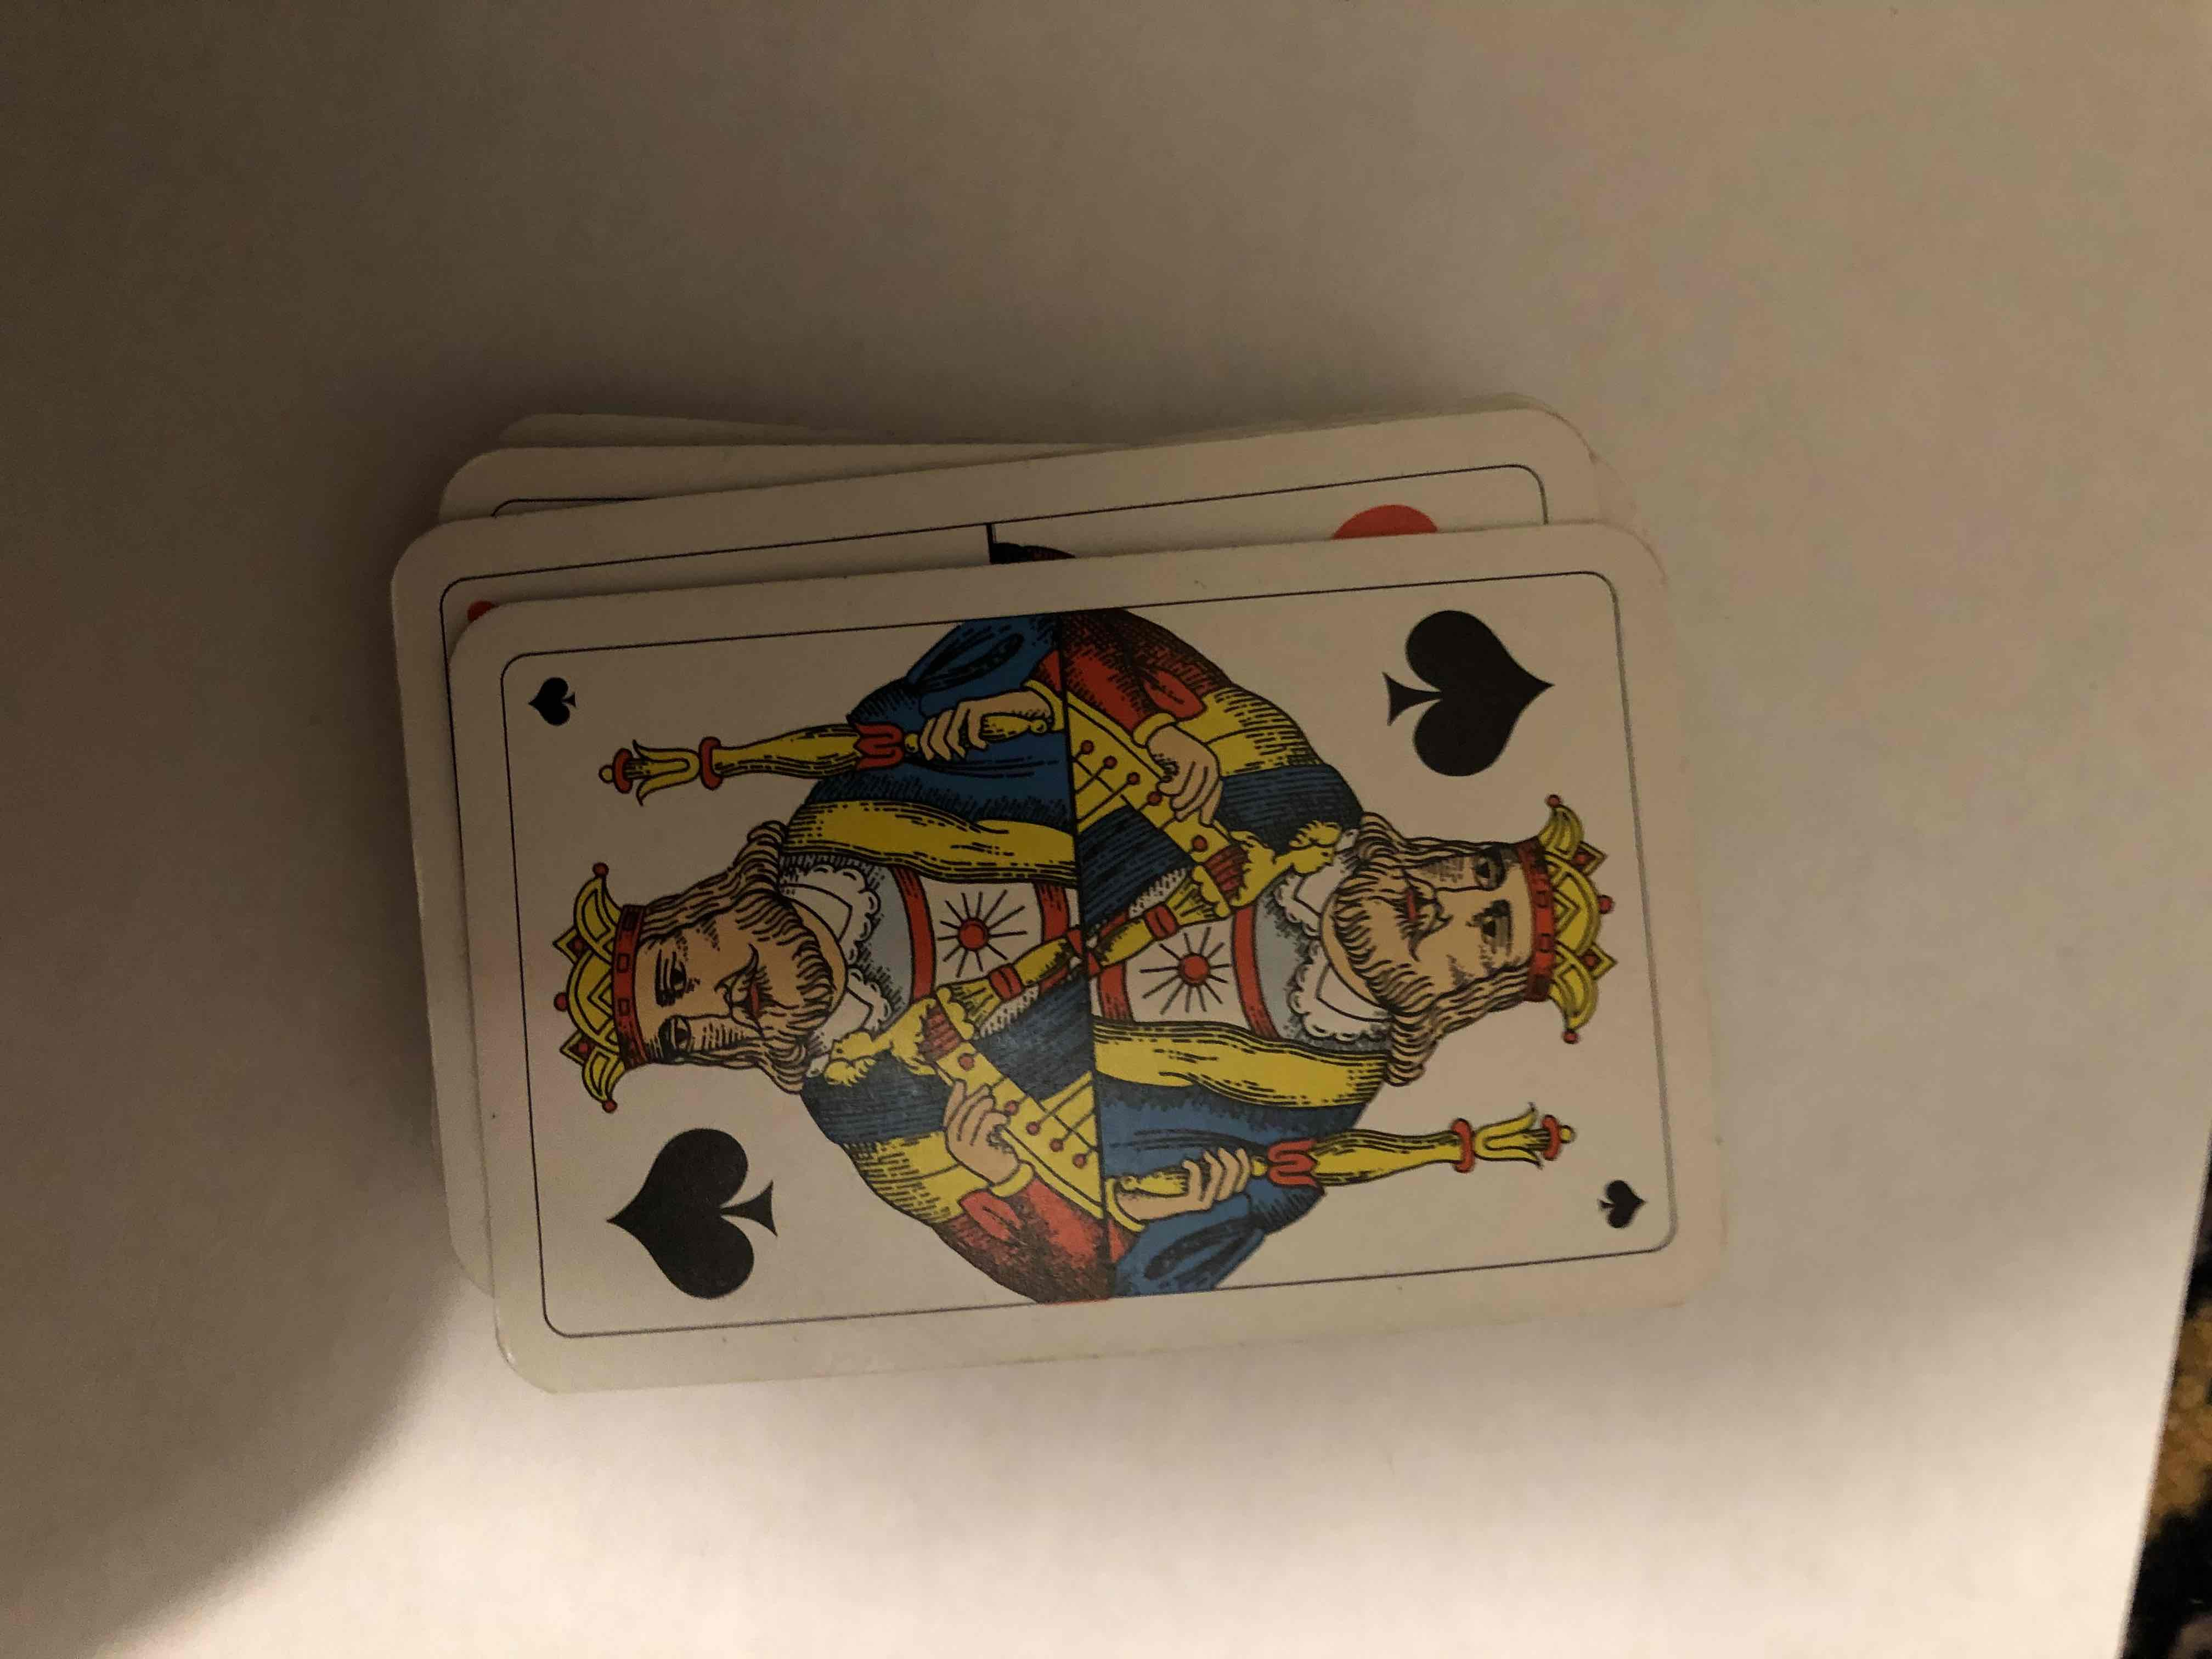spadesKing: (481, 580, 1726, 1378)
